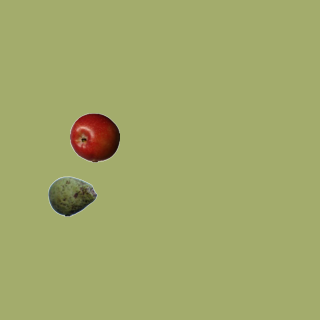Apple Braeburn: (69, 112, 119, 162)
Pear Stone: (47, 171, 97, 221)
